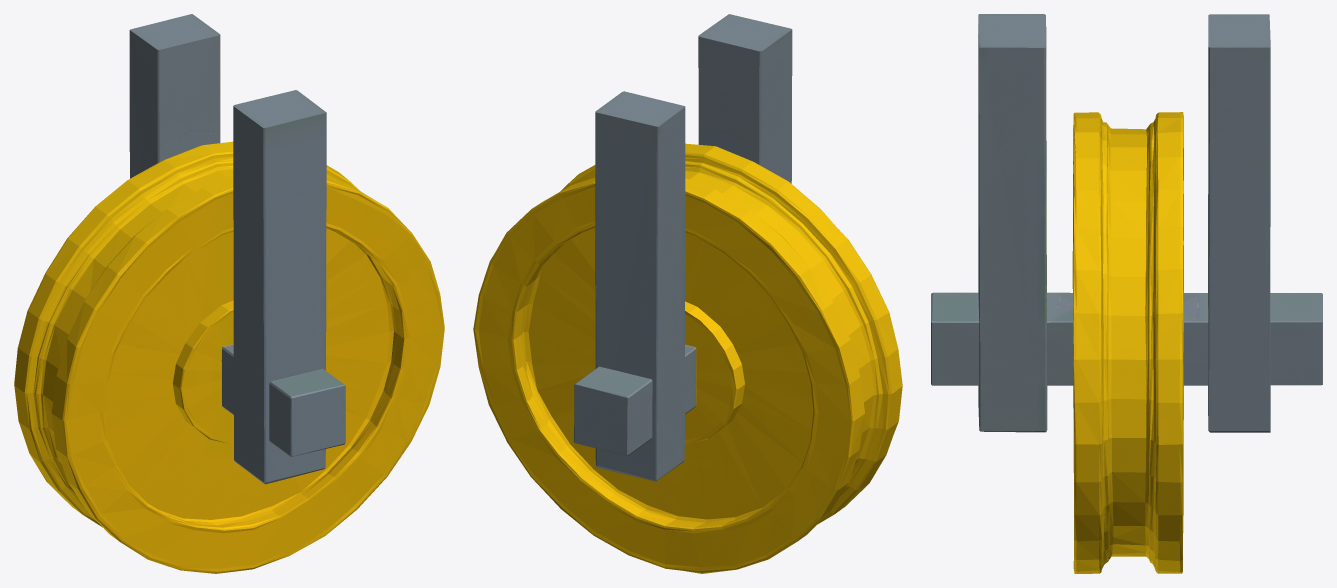
File: pulley.glb
3 views of the same model, side by side, from view 1: azimuth 30°, elevation 25°; view 2: azimuth 150°, elevation 25°; view 3: azimuth 270°, elevation 25° (orthographic). The views are drawn at different scales.
Parts seen in each view (by area): view 1: mesh_node; view 2: mesh_node; view 3: mesh_node.
Part boxes in pixels (x1,y1,x2,y2): mesh_node: (14, 14, 444, 573); mesh_node: (473, 14, 902, 573); mesh_node: (931, 14, 1322, 573).
Size of the model in its own units: 0.8301 by 1 by 0.6816.
Materials: 1 (1 with a texture image).
